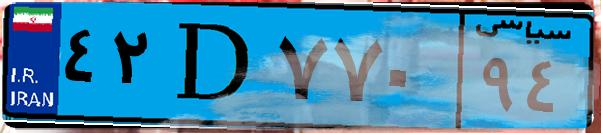0: (385, 28, 445, 110)
2: (110, 28, 158, 98)
4: (57, 26, 110, 100), (525, 38, 570, 115)
7: (270, 28, 330, 110), (330, 28, 385, 110)
9: (475, 38, 525, 113)
D: (158, 12, 270, 120)
